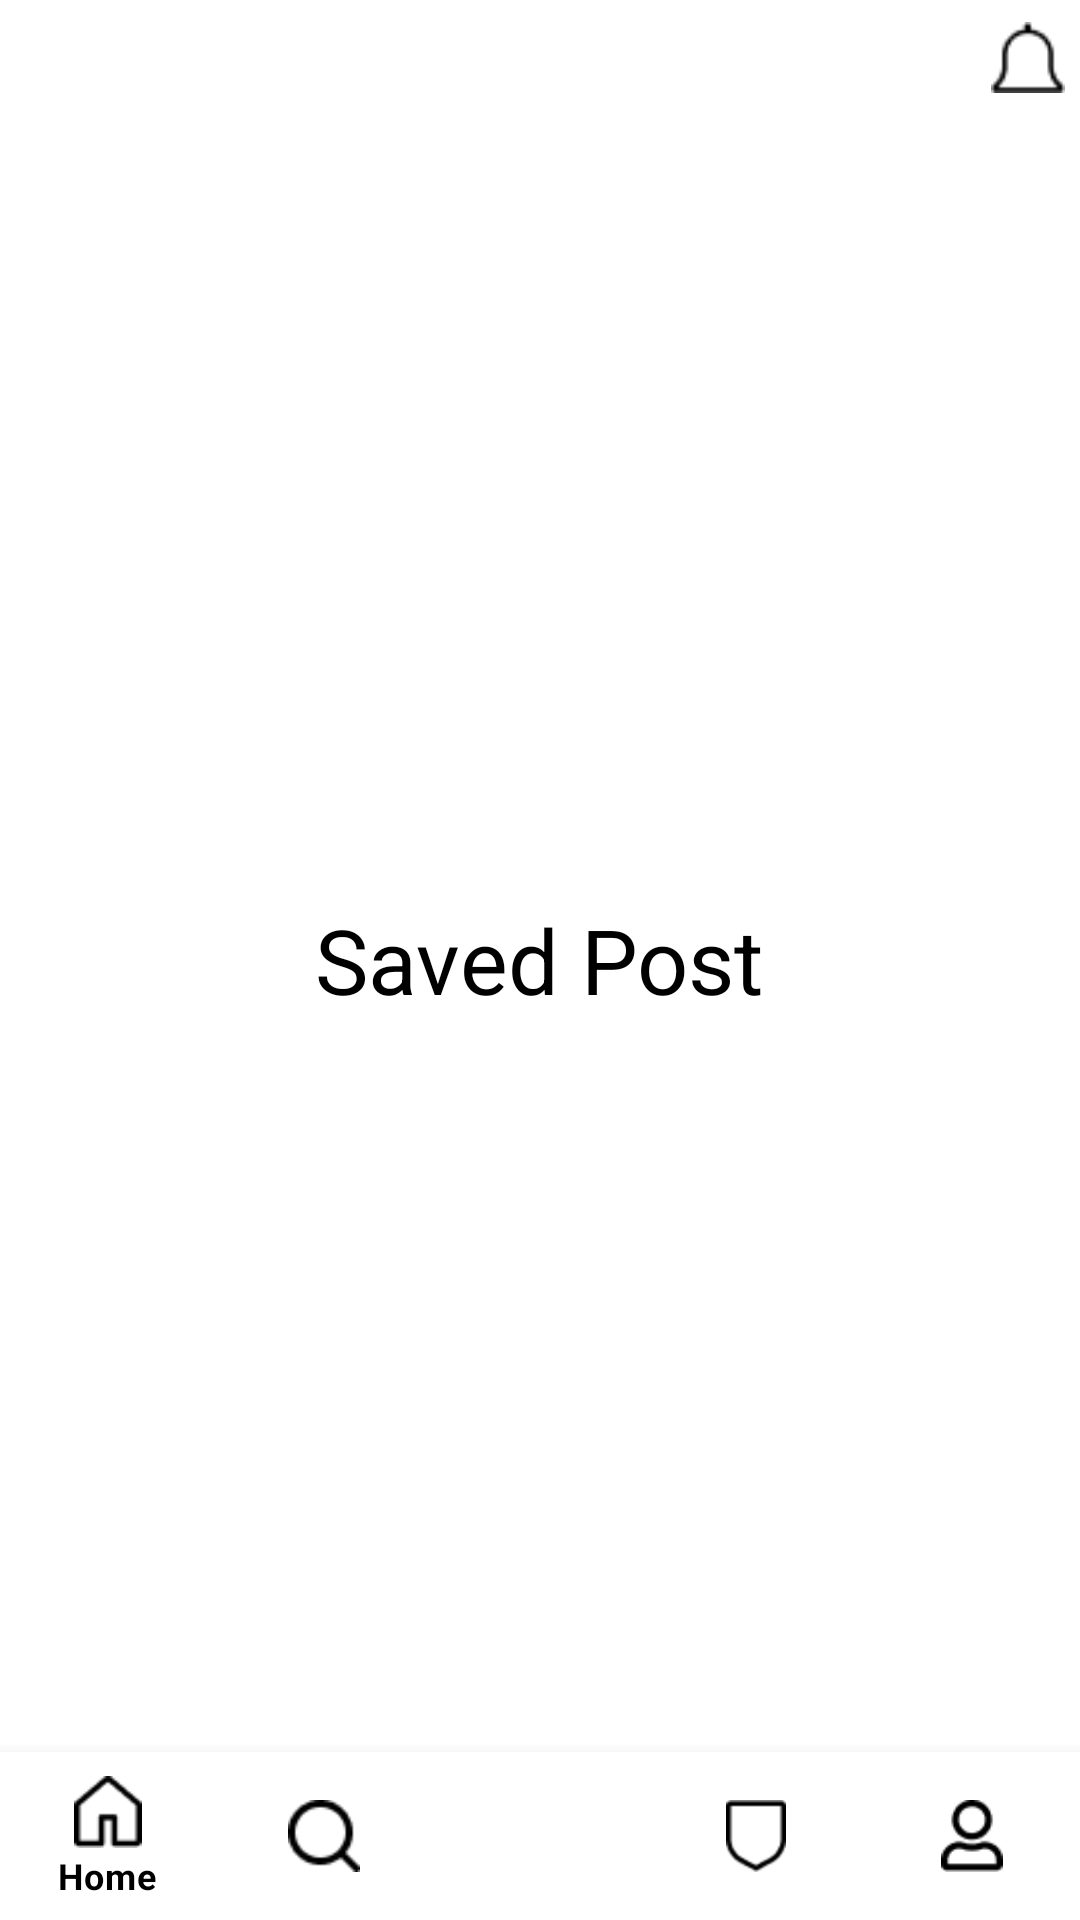

Named icons in this screenshot (1080w x 1920h) and their centers, (x=x, y=y):
noti: (x=1028, y=57)
